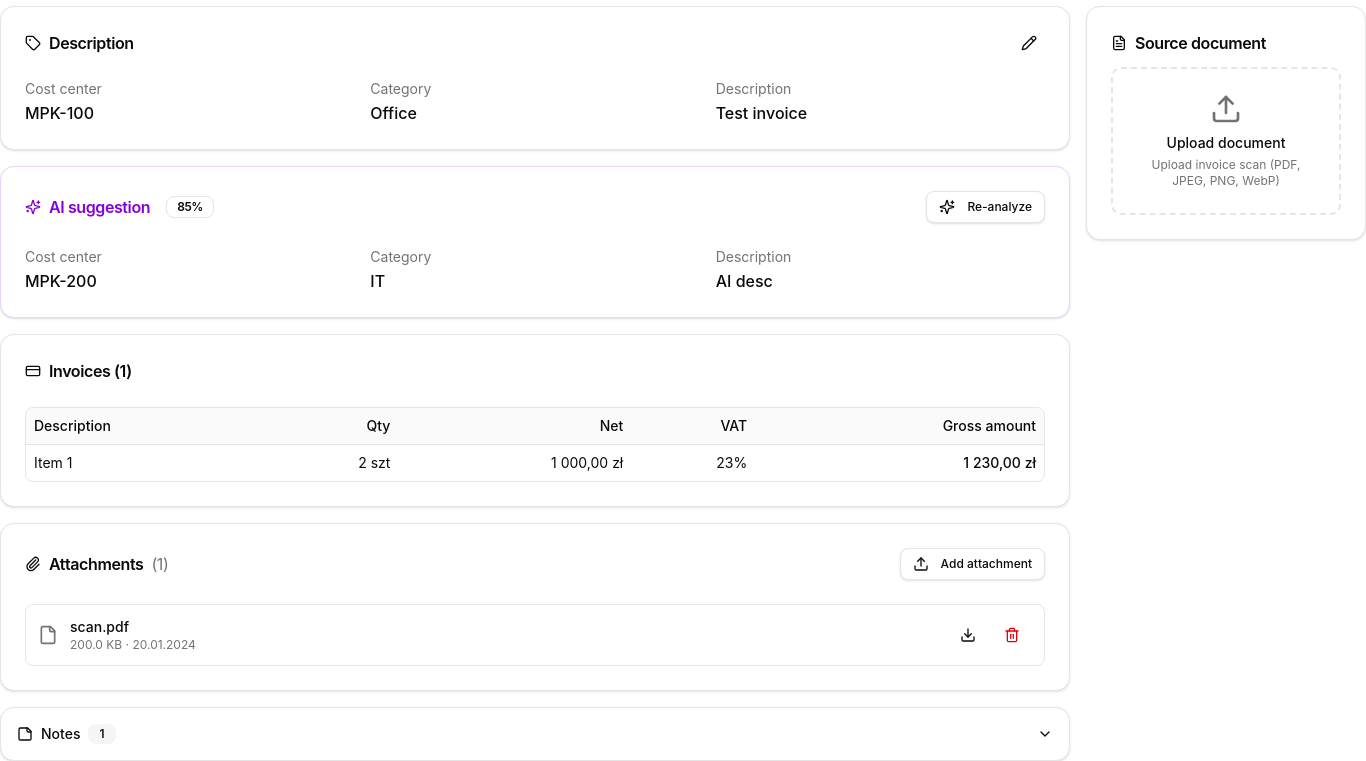
Test: InvoiceDetailPage › renders notes section
(page scrolled)
Expected: the text "Notes" is shown, [41,725,80,742]
// Notes section starts collapsed, click to expand
Click the button "Notes 1" at (61, 734), box [17,724,1053,744]
(page scrolled)
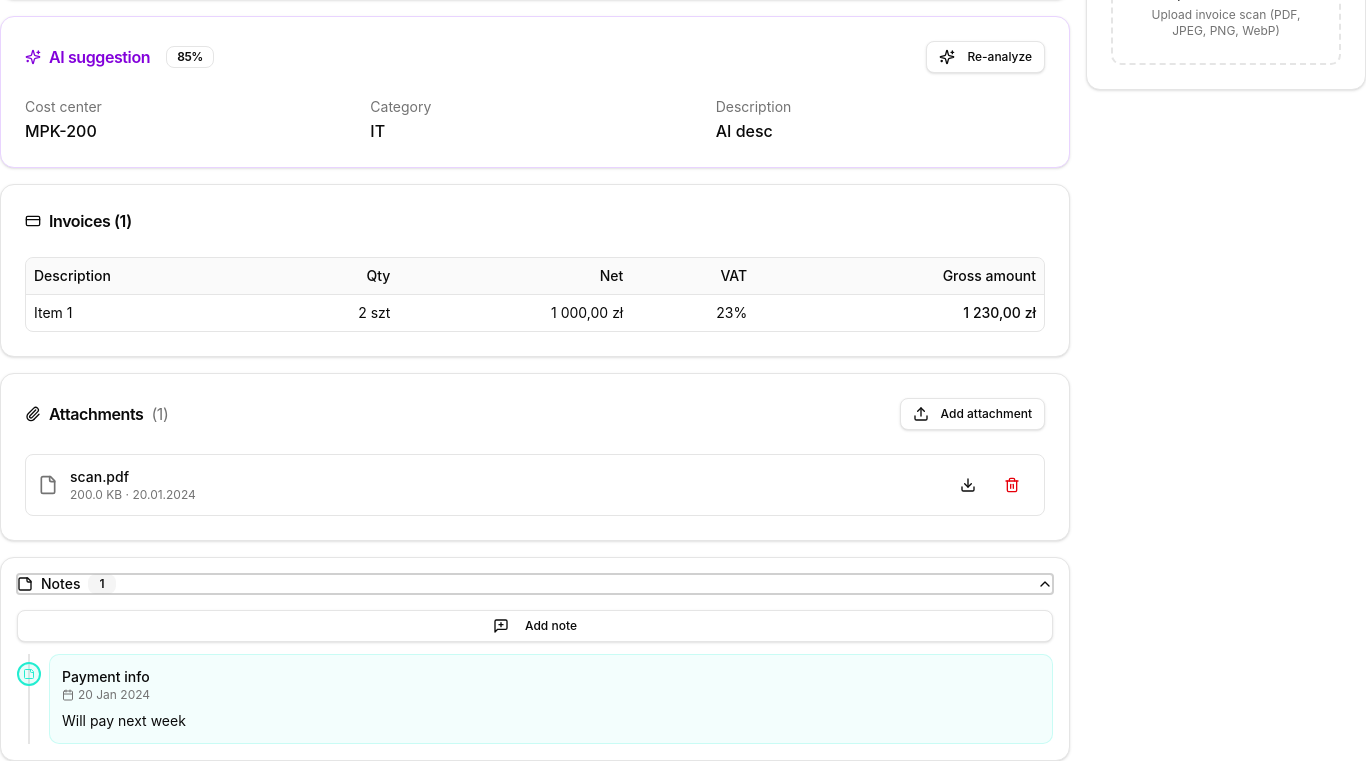
Expected: the heading "Payment info" is shown, [62,668,150,685]
Expected: the text "Will pay next week" is shown, [62,712,186,729]
